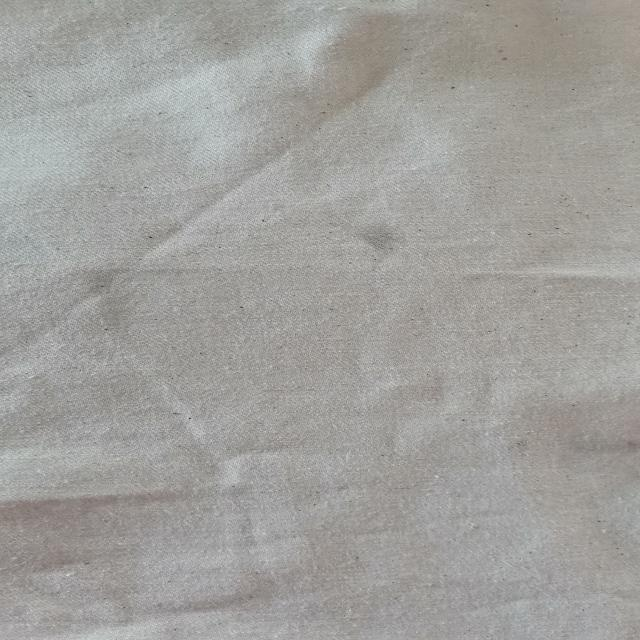taaaches: (322, 211, 421, 269)
